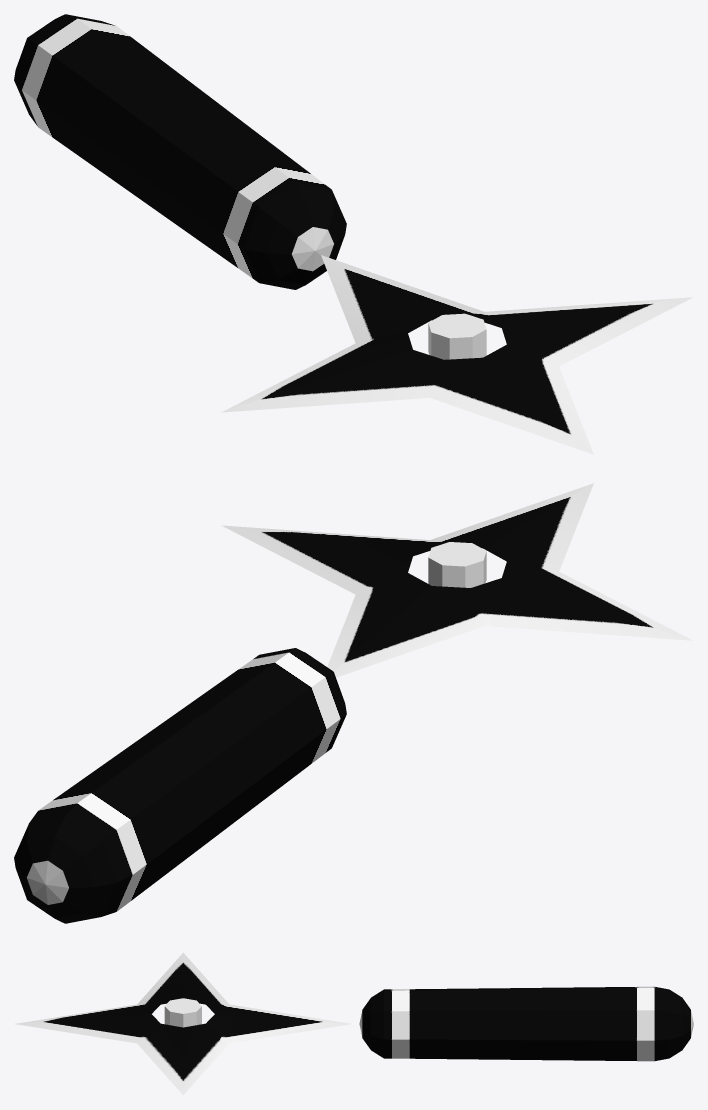
The model's file is ammoPizzaCutter_mesh.fbx.
The picture shows the model from 3 angles, top to bottom: view 1: azimuth 30°, elevation 25°; view 2: azimuth 150°, elevation 25°; view 3: azimuth 270°, elevation 25°; orthographic projection. The views are drawn at different scales.
Parts seen in each view (by area): view 1: ammoPizzaCutter_mesh01, shiruken; view 2: ammoPizzaCutter_mesh01, shiruken; view 3: ammoPizzaCutter_mesh01, shiruken.
Part boxes in pixels (<box>): ammoPizzaCutter_mesh01: <box>14,14,486,359</box>; shiruken: <box>221,255,692,454</box>; ammoPizzaCutter_mesh01: <box>14,542,486,923</box>; shiruken: <box>221,483,692,677</box>; ammoPizzaCutter_mesh01: <box>164,986,693,1061</box>; shiruken: <box>15,952,351,1095</box>.
Size of the model in its own units: 54.39 by 12.77 by 109.
